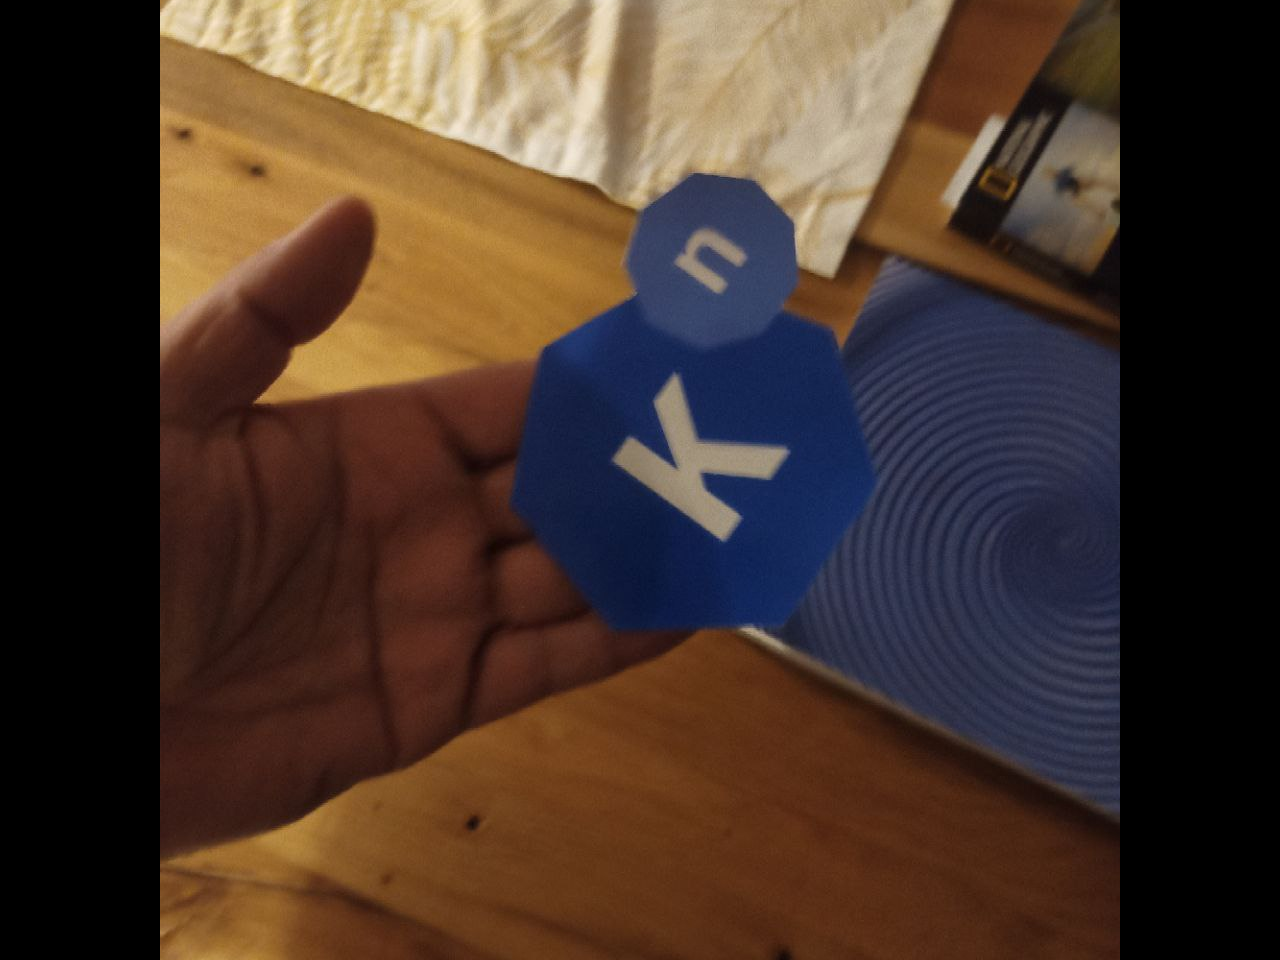knative: (506, 174, 874, 635)
